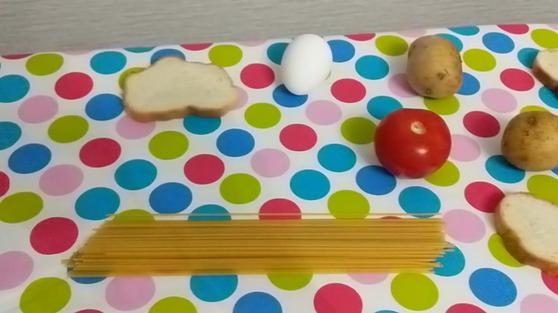egg: (274, 29, 338, 100)
potato: (404, 31, 465, 103), (496, 106, 558, 173)
spaghetti: (57, 204, 456, 283)
tomato: (374, 105, 456, 179)
white_bread: (117, 52, 248, 120), (492, 191, 558, 274)
